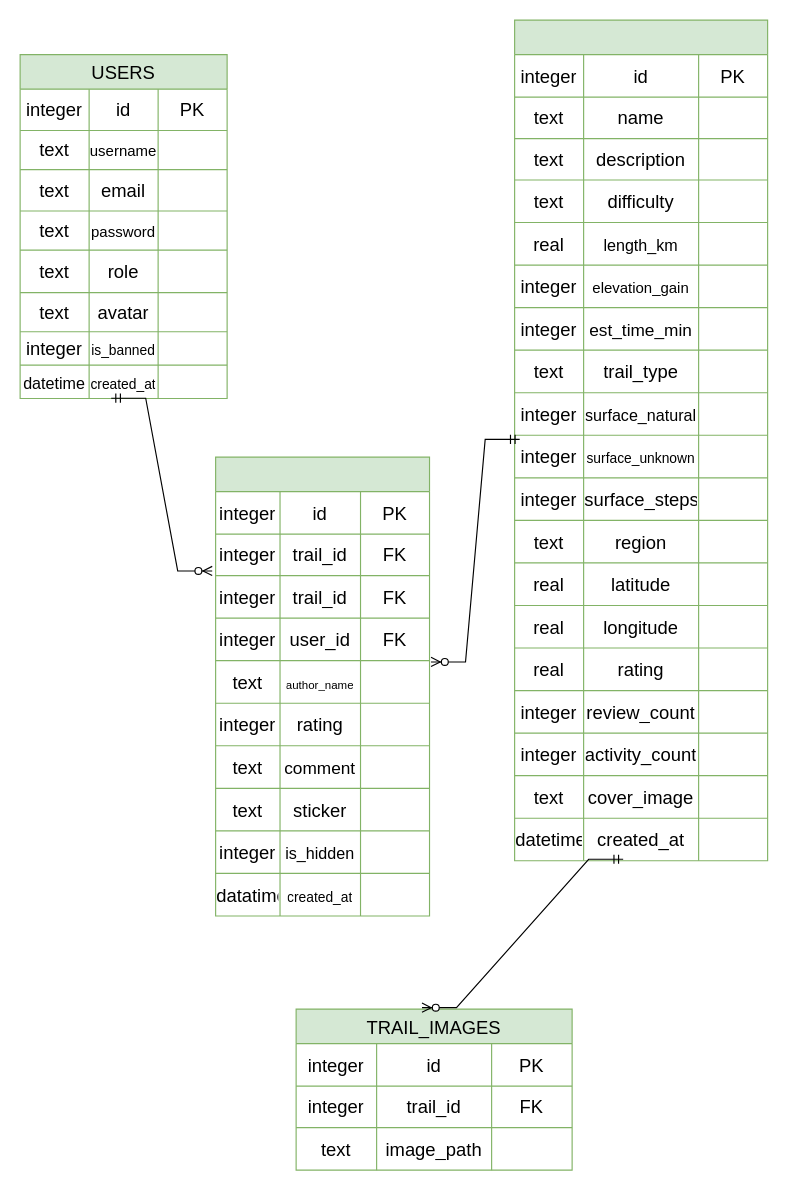
The diagram is 788 pixels wide and 1190 high, and some of its shapes have lost their labels. The box of each missing label's shape, as (x1, y1, x2, y2) in pixels:
REVIEWS: (214, 456, 430, 916)
TRAILS: (513, 19, 768, 861)
